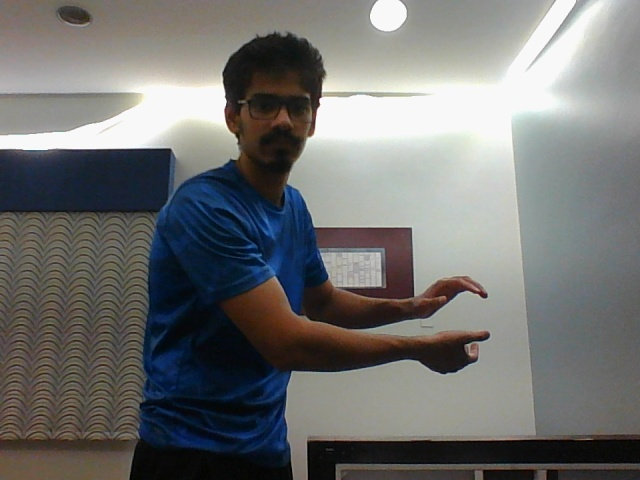charge: (406, 266, 493, 374)
